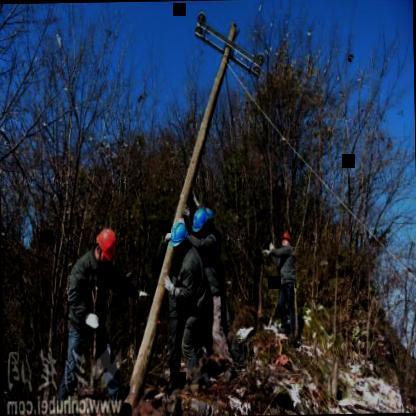helmet: (93, 224, 119, 265), (190, 206, 212, 240), (169, 220, 189, 257), (280, 230, 294, 254)
